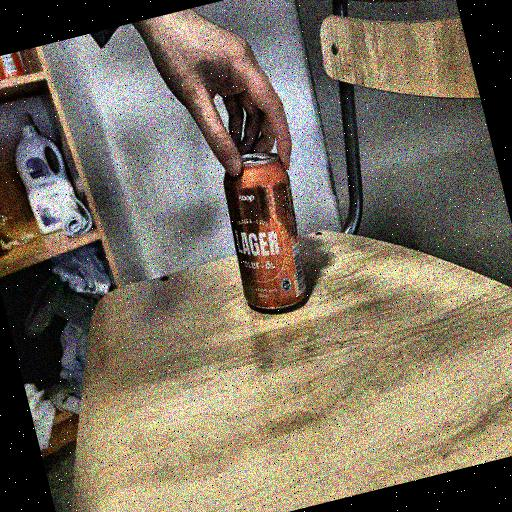coop_larger: (203, 136, 330, 331)
